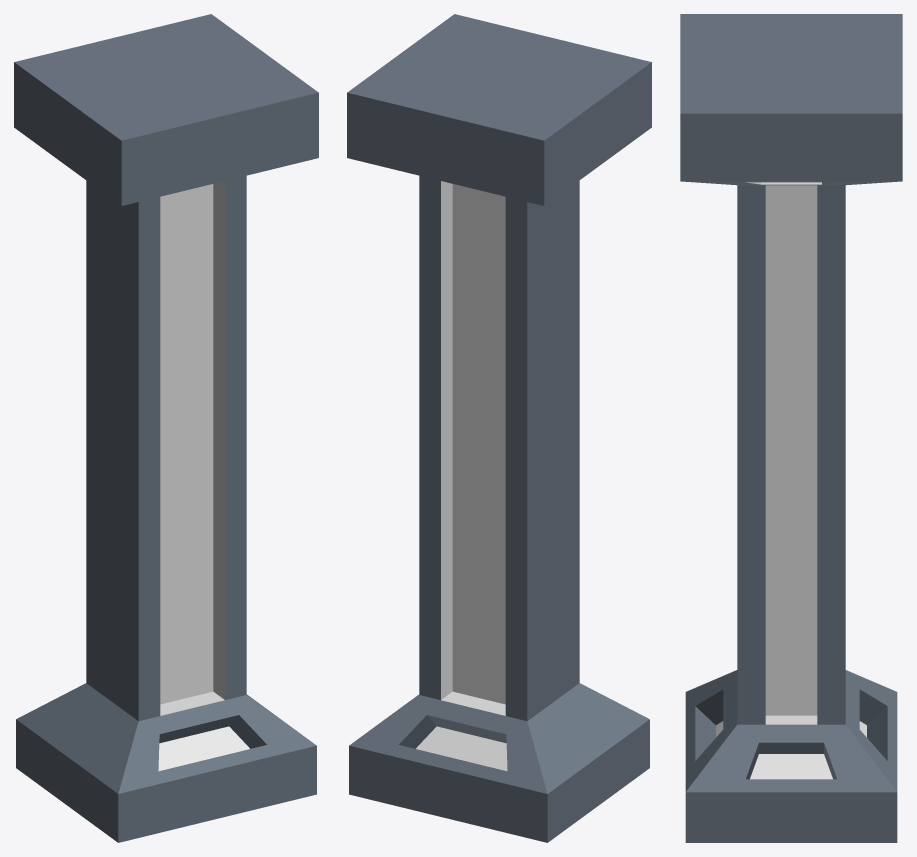
Rendered from pillier.fbx.
The picture shows the model from 3 angles, left to right: view 1: azimuth 30°, elevation 25°; view 2: azimuth 150°, elevation 25°; view 3: azimuth 270°, elevation 25°; orthographic projection. The views are drawn at different scales.
Visible parts, largest first — view 1: pillier; view 2: pillier; view 3: pillier.
Boxes of the visible parts, bbox=[...] form: pillier: bbox=[14, 14, 318, 842]; pillier: bbox=[347, 14, 651, 842]; pillier: bbox=[680, 14, 902, 842].
Size of the model in its own units: 0.0918 by 0.3109 by 0.086.
